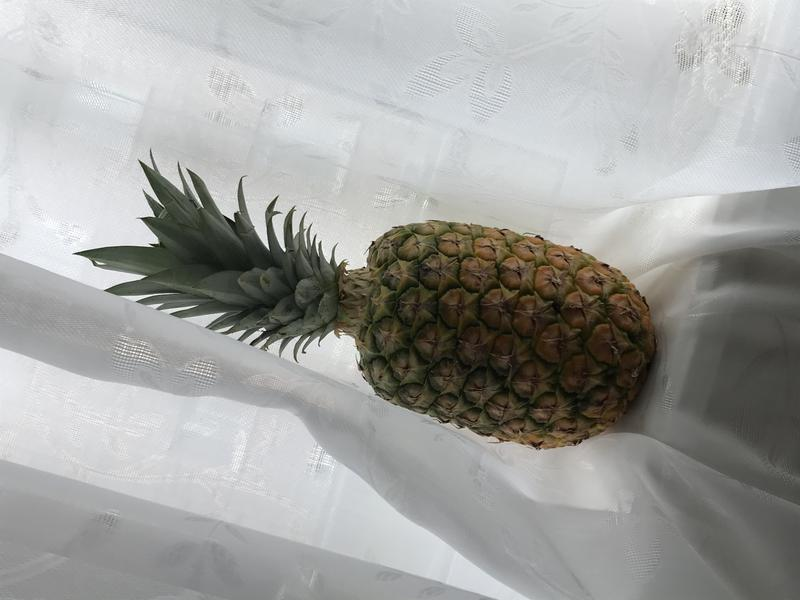pineapple: (75, 137, 669, 465)
